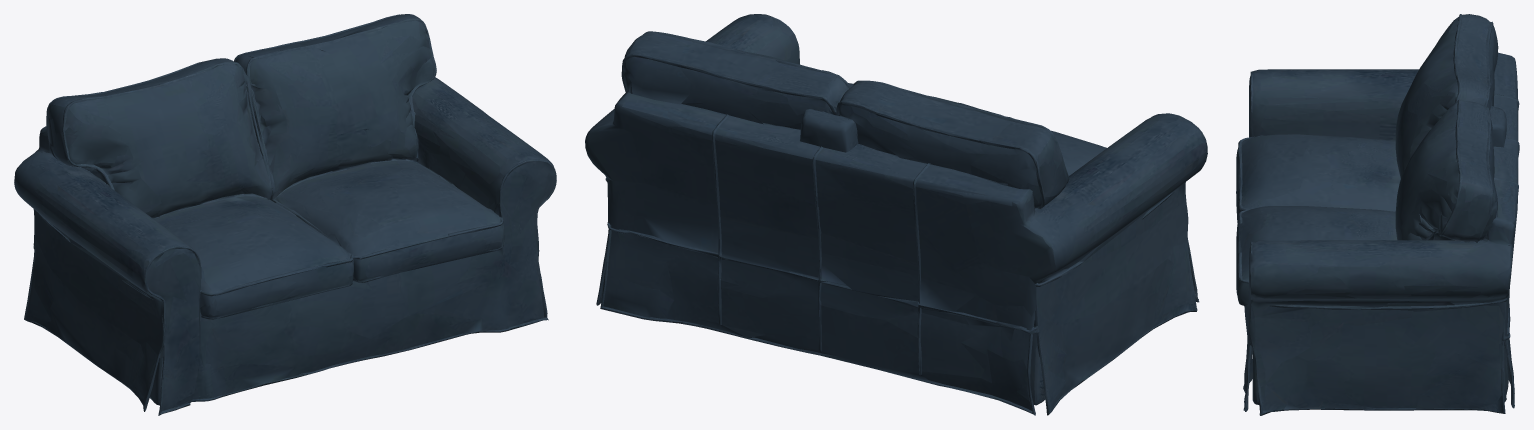
The picture shows the model from 3 angles, left to right: view 1: azimuth 30°, elevation 25°; view 2: azimuth 150°, elevation 25°; view 3: azimuth 270°, elevation 25°; orthographic projection. The views are drawn at different scales.
Parts seen in each view (by area): view 1: Mesh_0; view 2: Mesh_0; view 3: Mesh_0.
Part boxes in pixels (left/top/right/bottom): Mesh_0: left=14, top=14, right=556, bottom=415; Mesh_0: left=585, top=14, right=1207, bottom=415; Mesh_0: left=1236, top=14, right=1519, bottom=415.
Bounding box in the file's own units: 1.65 × 0.88 × 0.9937.
1 material, 1 textured.
